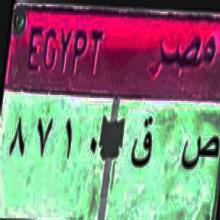0: (88, 127, 98, 160)
1: (61, 115, 75, 165)
7: (34, 111, 53, 166)
8: (8, 113, 25, 163)
qaaf: (129, 113, 156, 170)
saad: (178, 126, 219, 182)
